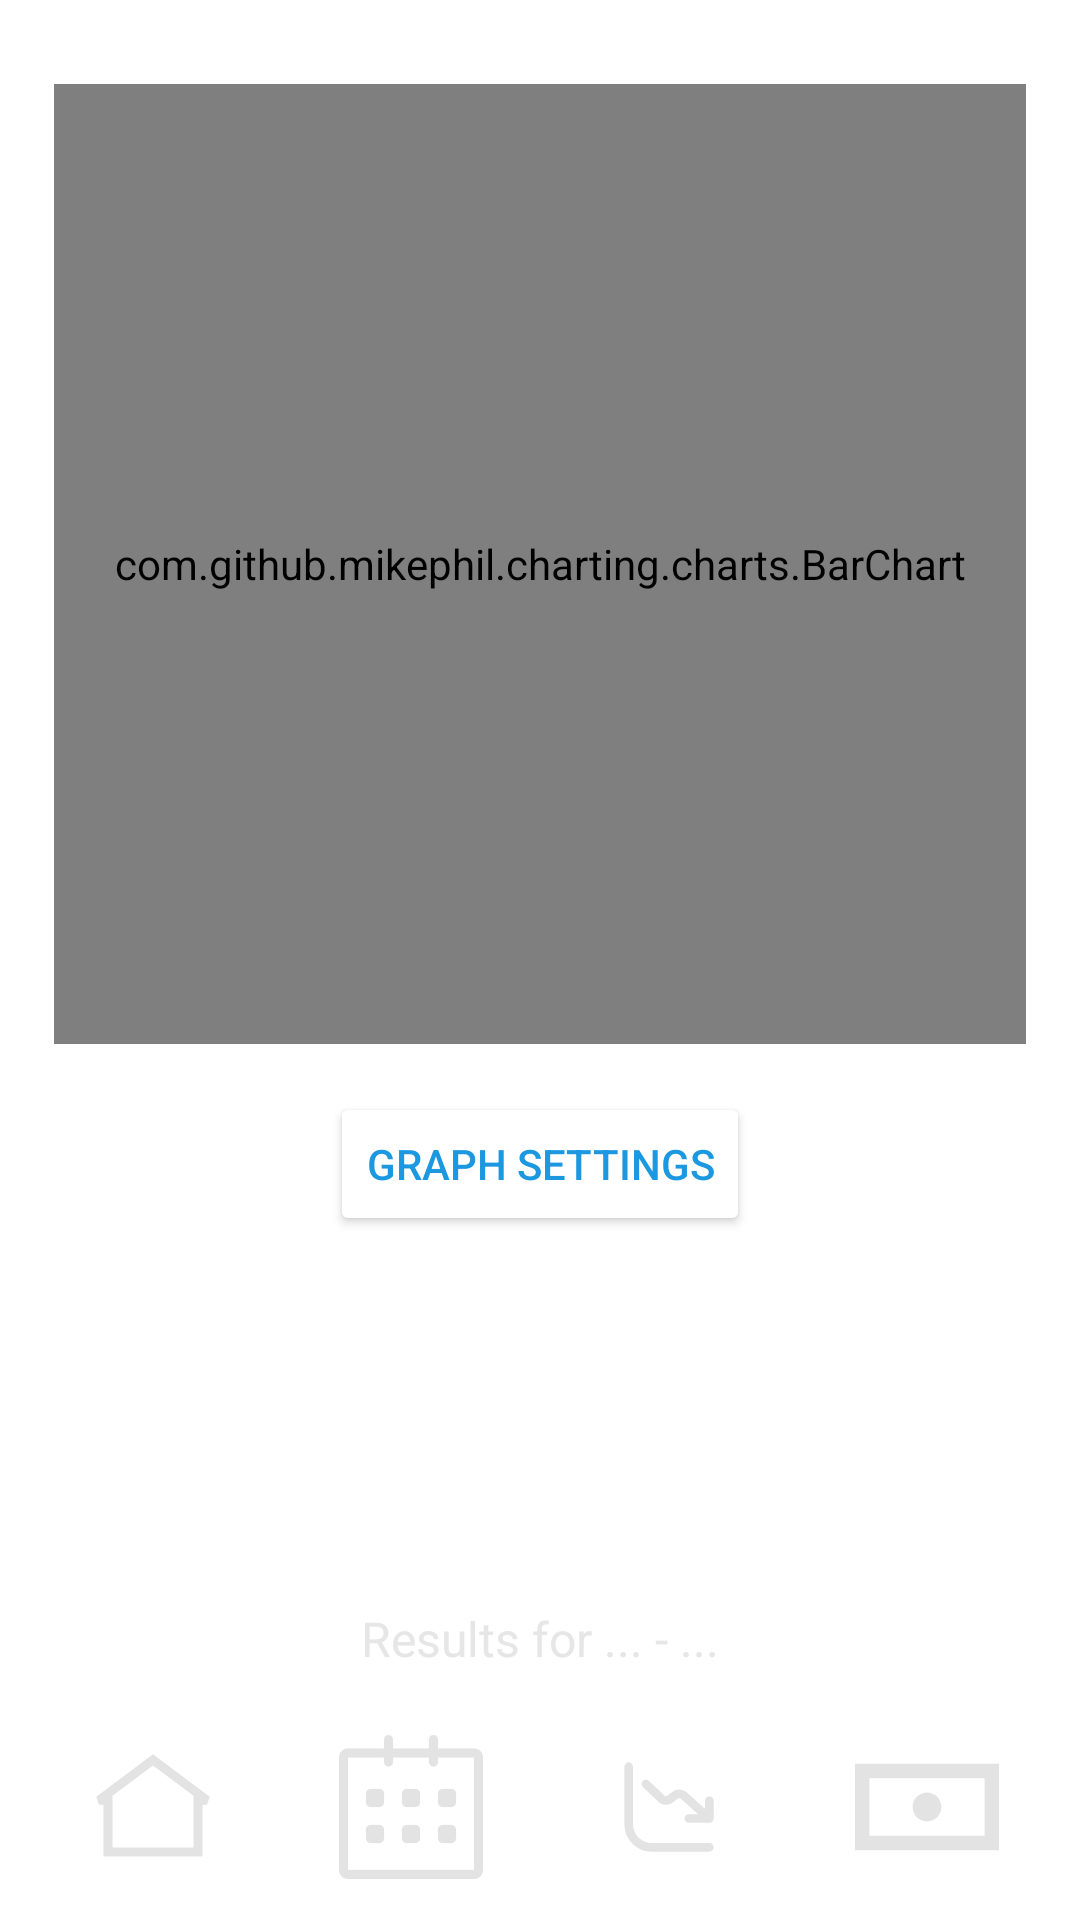

Where to tap for icons on this 1080 x 1920 app screen, as [x,y]:
Calendar: [411,1807]
Home: [153,1805]
